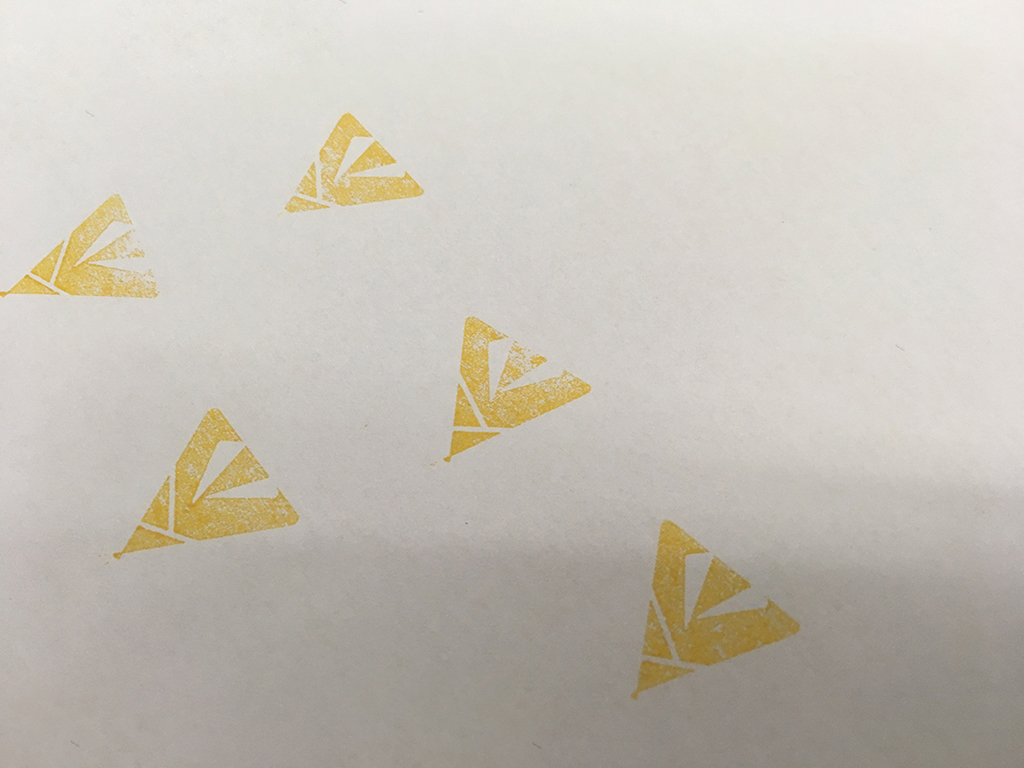tent: (620, 508, 813, 716), (96, 399, 314, 566), (434, 309, 600, 480), (279, 105, 432, 228), (1, 189, 166, 303)
